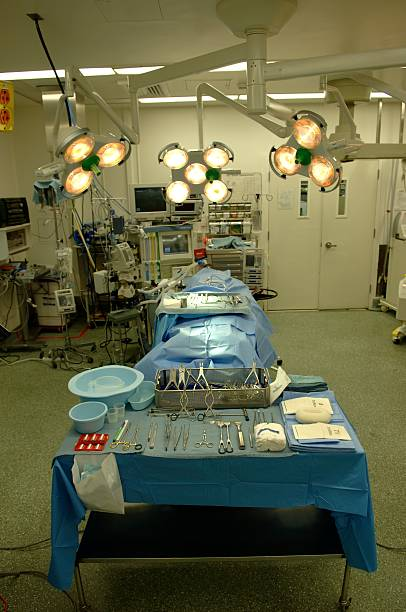bedside_monitor: (128, 184, 171, 218), (159, 234, 196, 258)
door_handle: (323, 241, 338, 249)
iv_pole: (242, 189, 272, 290)
medical_drawer: (204, 224, 265, 303), (175, 205, 197, 224)
operating_bed: (133, 267, 276, 381)
surgical_instrument: (77, 360, 277, 452)
surgical_light: (265, 107, 348, 195), (49, 121, 132, 200), (156, 140, 235, 206)
syringe_pump: (245, 252, 264, 285)
utility_cart: (46, 390, 379, 612)
